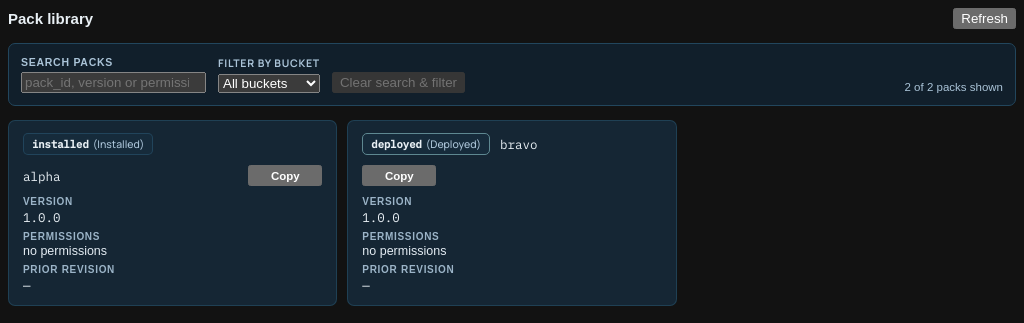
it: PackLibrary refresh keeps the selected bucket filter truthful › shows the returning bucket exactly once when a later Refresh brings it back
Expected: the list with test id "pack-library-list" is shown, x1=8 y1=120 x2=677 y2=306
Step 1. Select "installed" in the dropdown with test id "pack-library-bucket-select" → coordinates (269, 84), box x1=218 y1=74 x2=320 y2=93
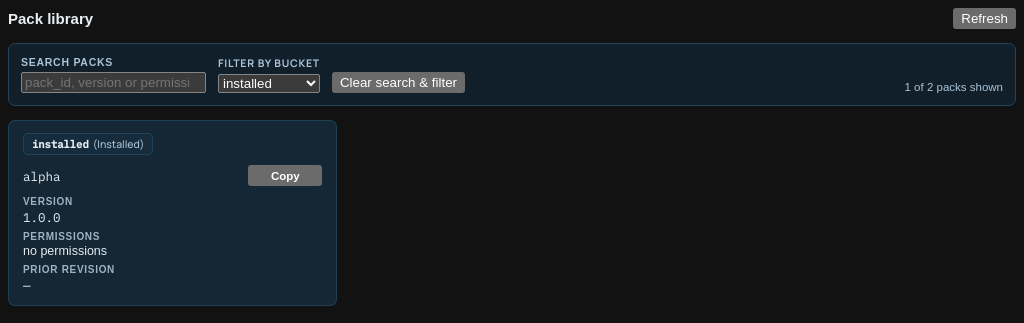
Step 2. Click the button with test id "pack-library-refresh" → coordinates (985, 18), box x1=953 y1=8 x2=1016 y2=29
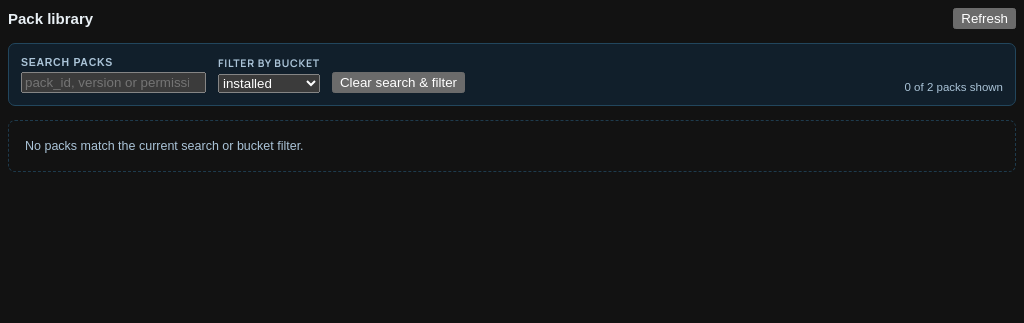
Expected: the message "No packs match the current search or bucket filter." is shown, x1=8 y1=120 x2=1016 y2=172
Step 3. Click the button with test id "pack-library-refresh" → coordinates (985, 18), box x1=953 y1=8 x2=1016 y2=29
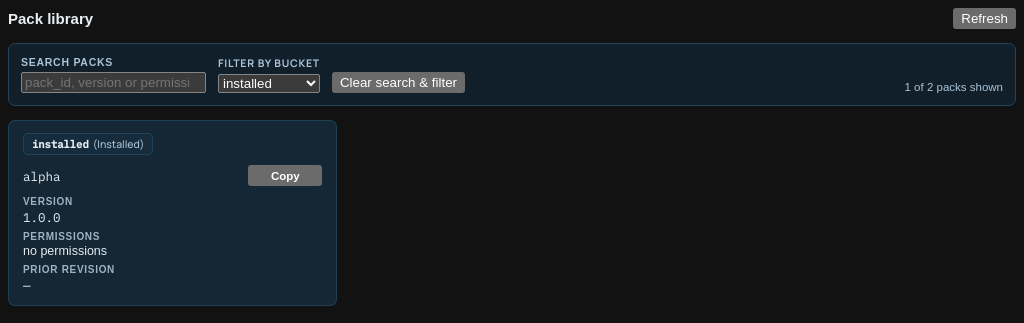
Expected: the list item with test id "pack-library-row-alpha" is shown, x1=8 y1=120 x2=337 y2=306
Expected: the text with test id "pack-library-count" reads "1 of 2 packs shown", x1=904 y1=81 x2=1003 y2=93
